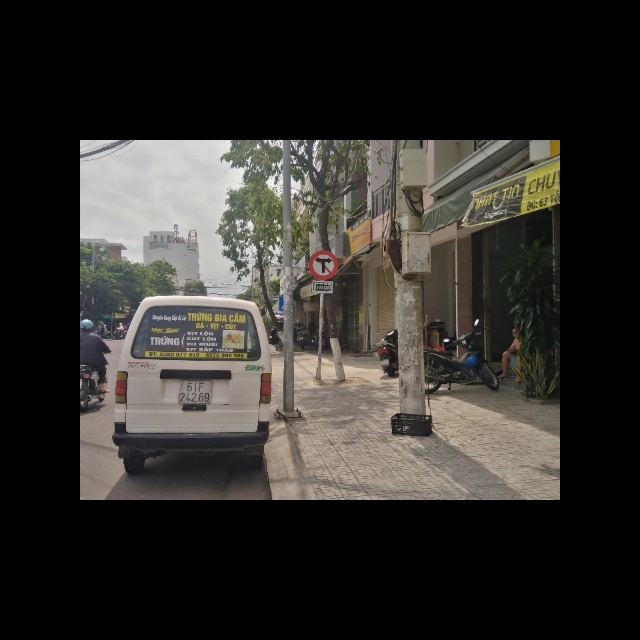Cấm rẽ trái và rẽ phải: (308, 250, 339, 280)
